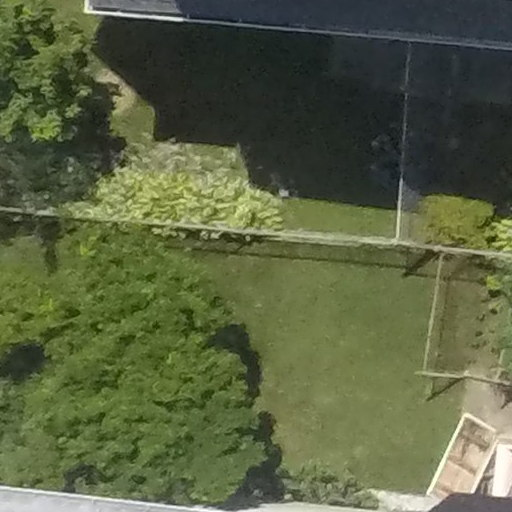fence: (3, 200, 512, 275), (388, 40, 412, 257)
